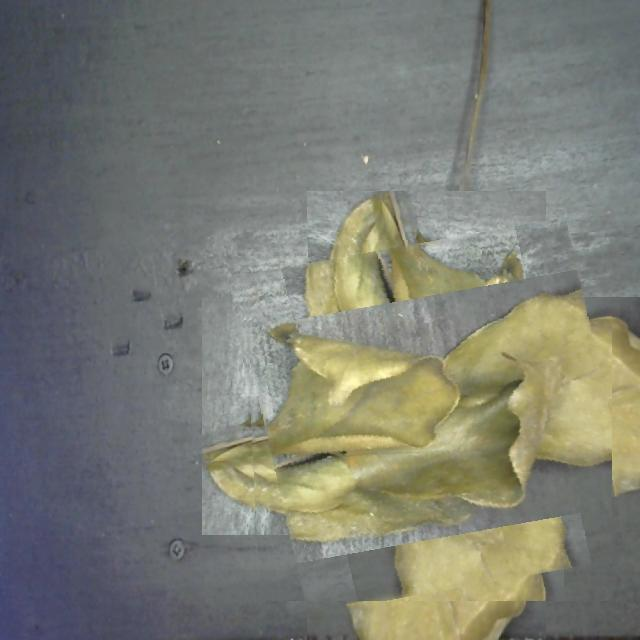biodegradable: (241, 230, 612, 601)
